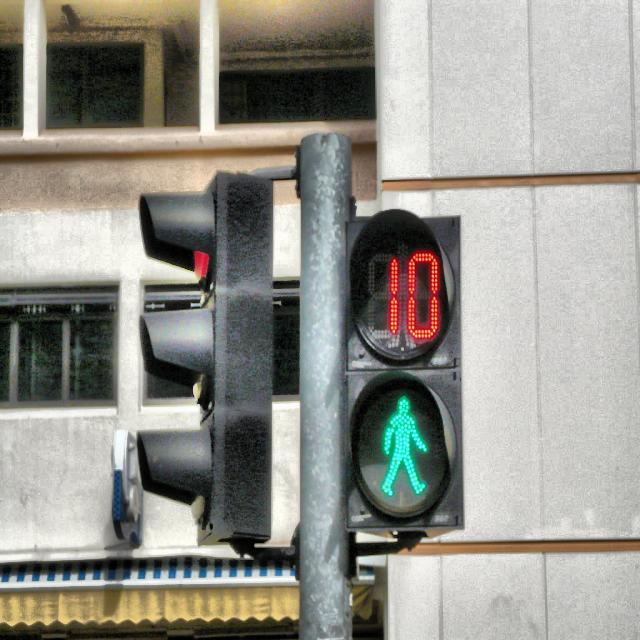green_light: (379, 395, 427, 498)
